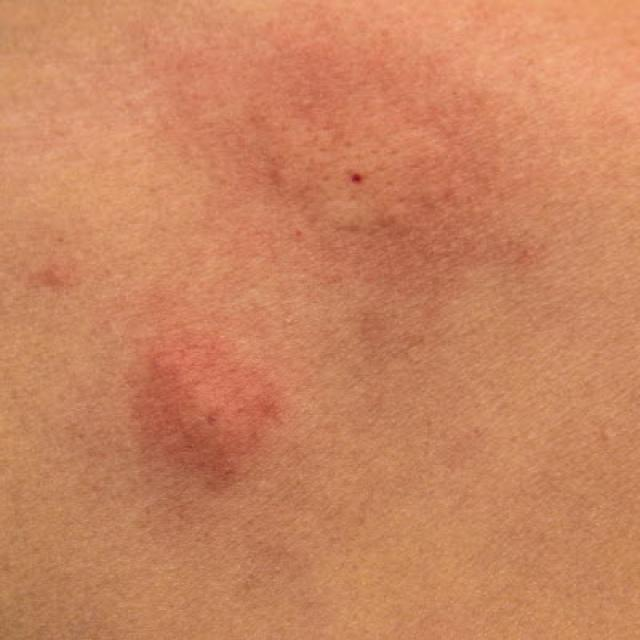sinek: (233, 86, 490, 285), (128, 335, 294, 497)
